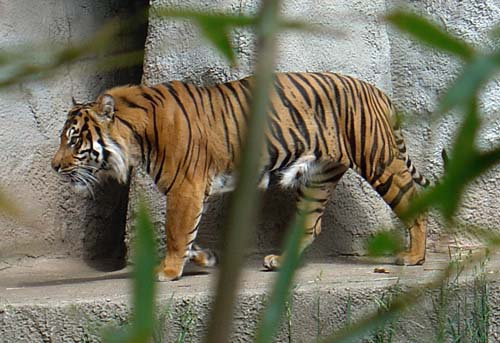Tigre: (41, 60, 435, 270)
